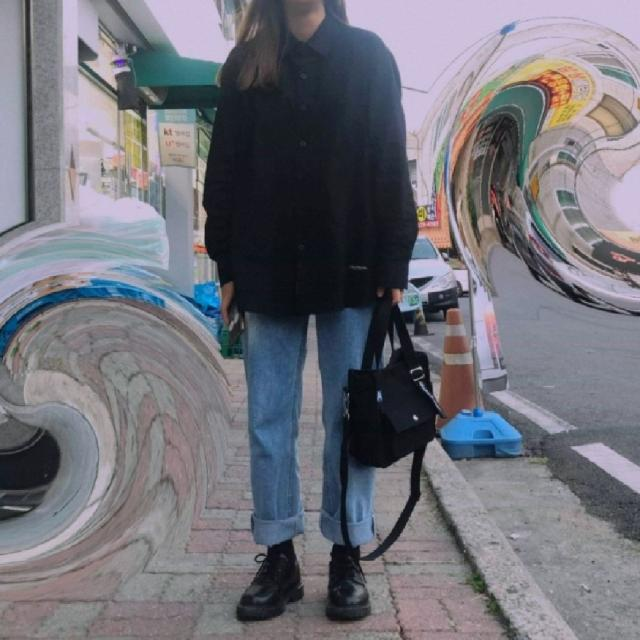denimpants: (244, 302, 378, 552)
shirt: (203, 15, 419, 310)
